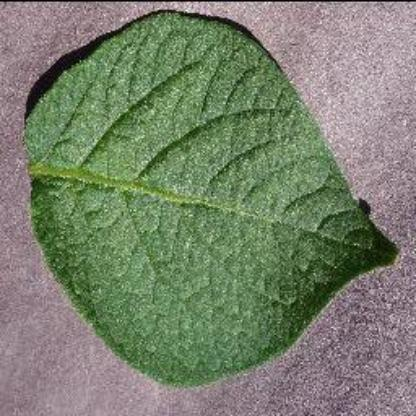Healthy-plant: (17, 10, 402, 388)
